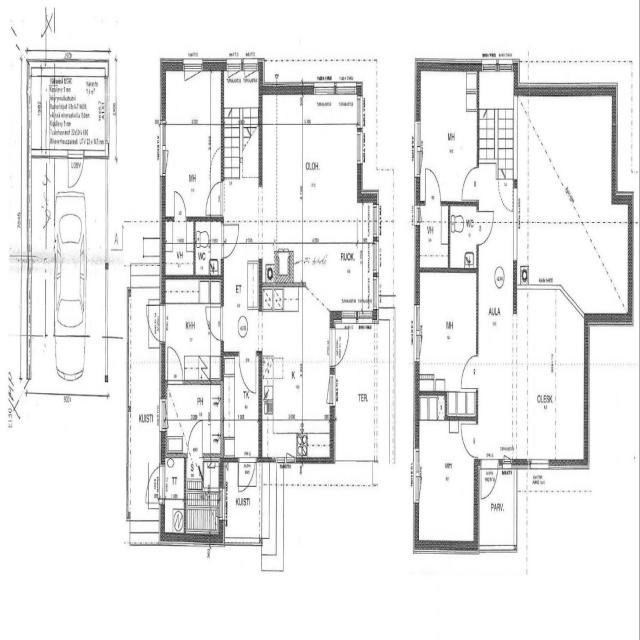door: (238, 457, 256, 507), (481, 460, 498, 508), (143, 467, 165, 503), (143, 306, 165, 342), (330, 330, 351, 366), (239, 352, 256, 394), (68, 150, 83, 193), (461, 355, 478, 389), (425, 168, 440, 206), (206, 307, 223, 340), (206, 182, 223, 215), (461, 167, 478, 200), (221, 225, 238, 257), (476, 212, 493, 244), (168, 348, 182, 385), (188, 421, 202, 458), (462, 425, 478, 456), (174, 192, 186, 222)
